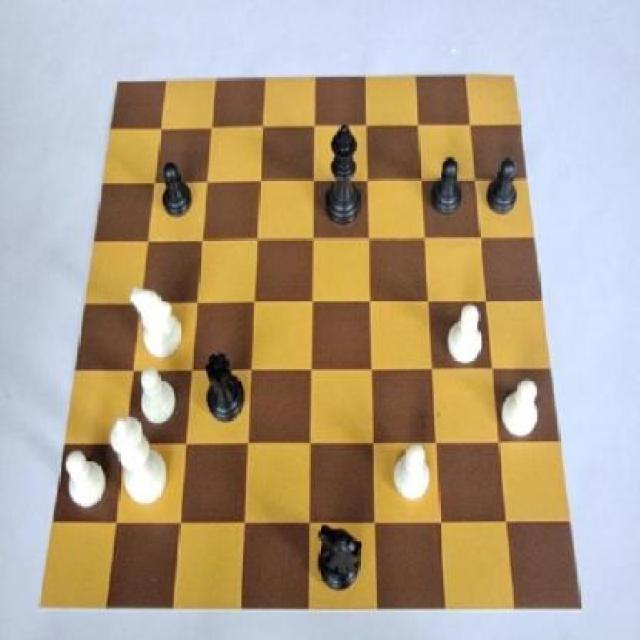black-bishop: (320, 112, 362, 228)
black-king: (315, 523, 368, 607)
black-knight: (156, 158, 197, 220), (426, 157, 462, 221), (488, 152, 522, 217)
black-queen: (203, 352, 246, 430)
white-bishop: (106, 408, 169, 518)
white-king: (129, 282, 186, 366)
white-knight: (498, 366, 544, 442), (63, 446, 111, 517), (385, 443, 436, 506), (132, 368, 184, 427), (445, 305, 489, 369)
